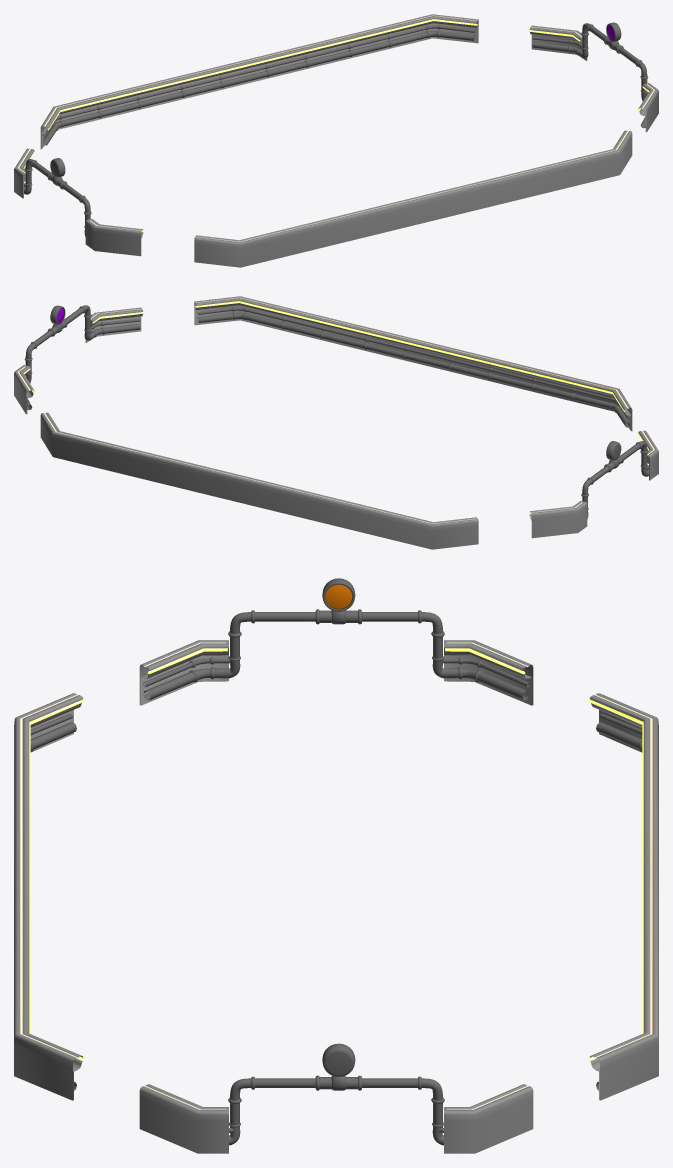
Rendered from mesh_Factory_Hockey_WallsWithGoals.fbx.
The picture shows the model from 3 angles, top to bottom: view 1: azimuth 30°, elevation 25°; view 2: azimuth 150°, elevation 25°; view 3: azimuth 270°, elevation 25°; orthographic projection. The views are drawn at different scales.
Parts seen in each view (by area): view 1: mesh_Factory_Hockey_WallsWithGoals; view 2: mesh_Factory_Hockey_WallsWithGoals; view 3: mesh_Factory_Hockey_WallsWithGoals.
Part boxes in pixels (box(x1,y1,x2,y2)): mesh_Factory_Hockey_WallsWithGoals: box(14, 14, 658, 267); mesh_Factory_Hockey_WallsWithGoals: box(14, 296, 658, 549); mesh_Factory_Hockey_WallsWithGoals: box(14, 578, 658, 1153).
Bounding box in the file's own units: 58.82 × 6.06 × 33.89.
